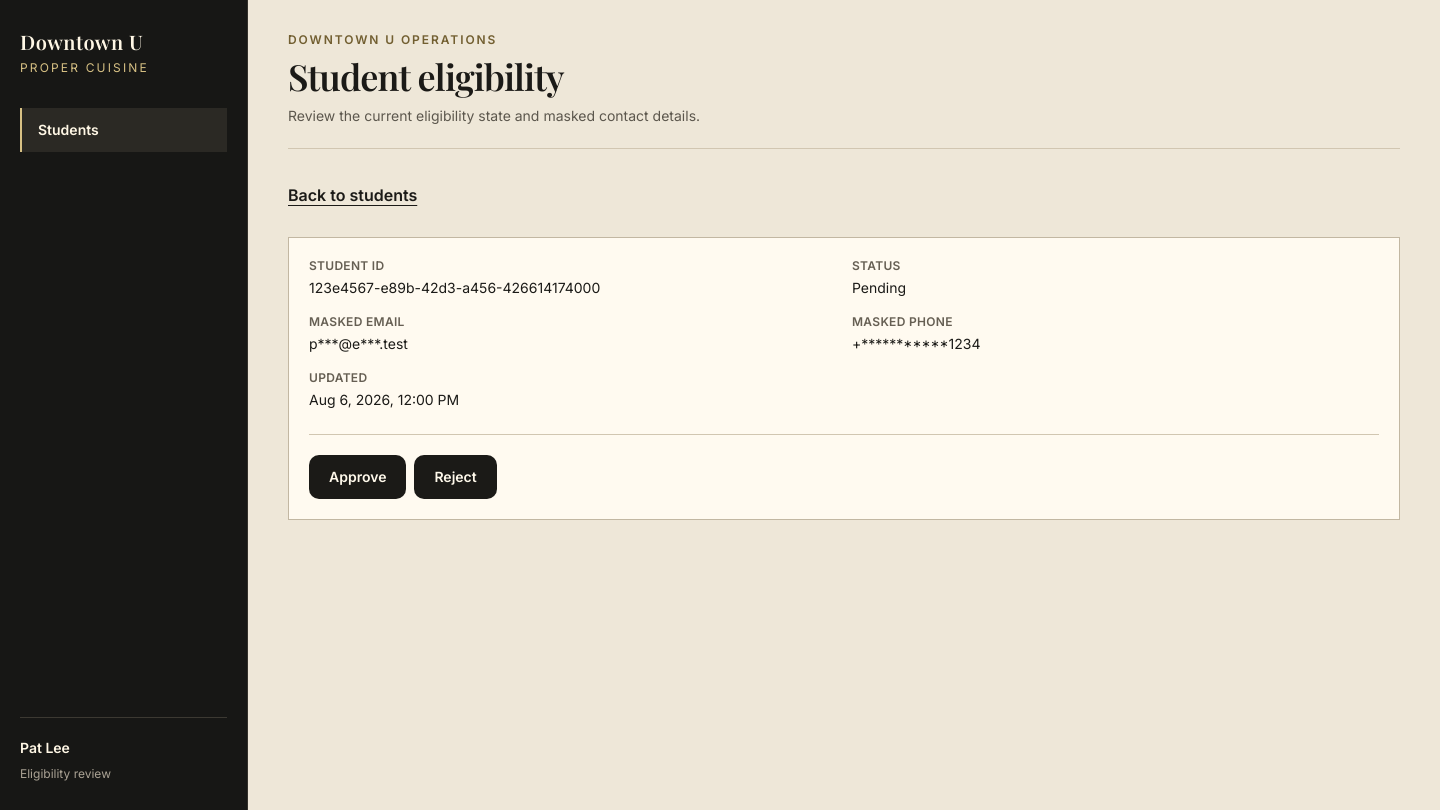
Test: eligibility mutation wizard › reauthenticates after Review, hides secrets, refetches exact state, and requires reconfirmation when it changed
This screenshot has width=1440, height=810.
Click the button "Approve" at (358, 477), box [309, 455, 406, 499]
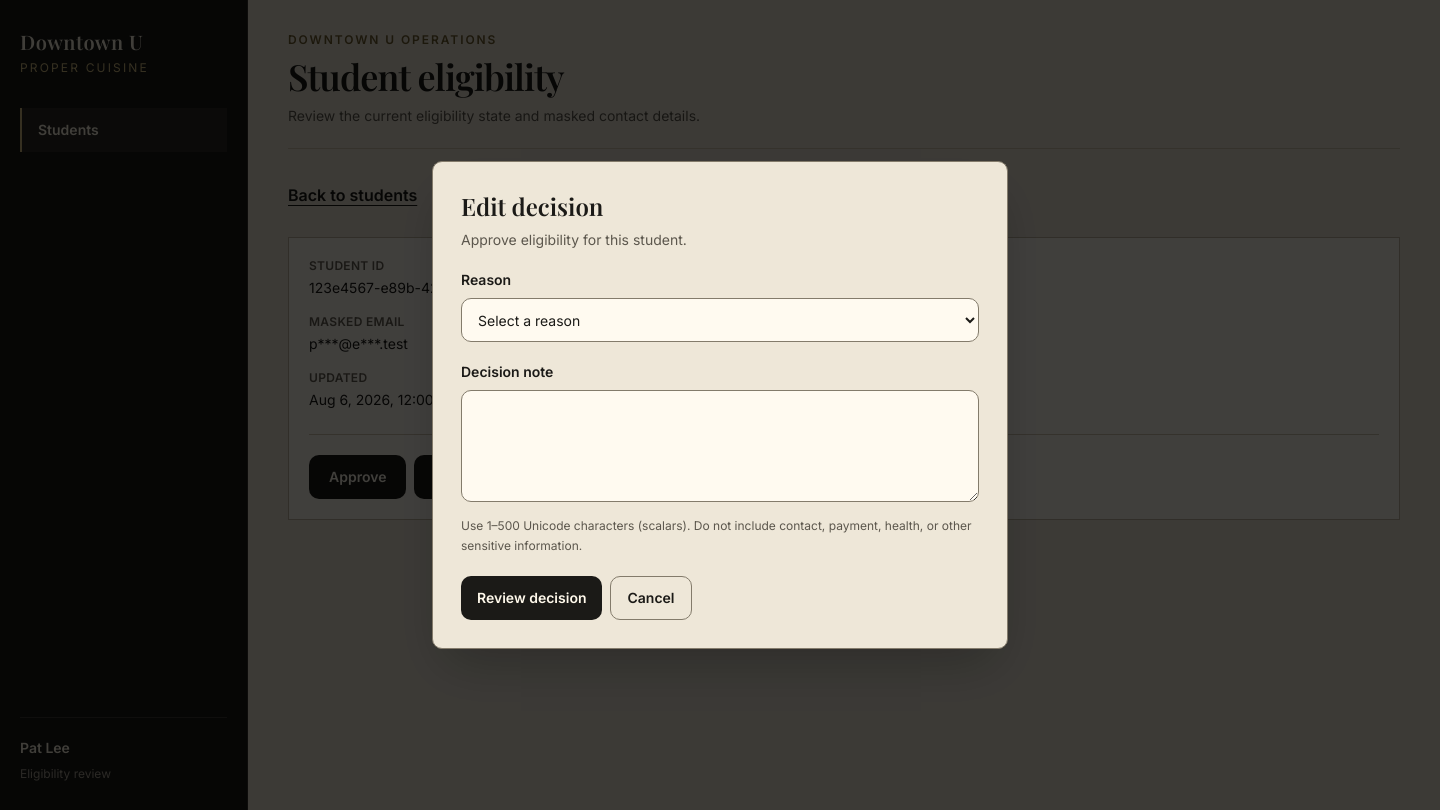
Select "Documentation verified" in the dropdown labelled "Reason" at (720, 320), box [461, 298, 979, 342]
Type "Documents verified" into the text box labelled "Decision note" at (720, 446), box [461, 390, 979, 502]
Click the button "Review decision" at (532, 598), box [461, 576, 602, 620]
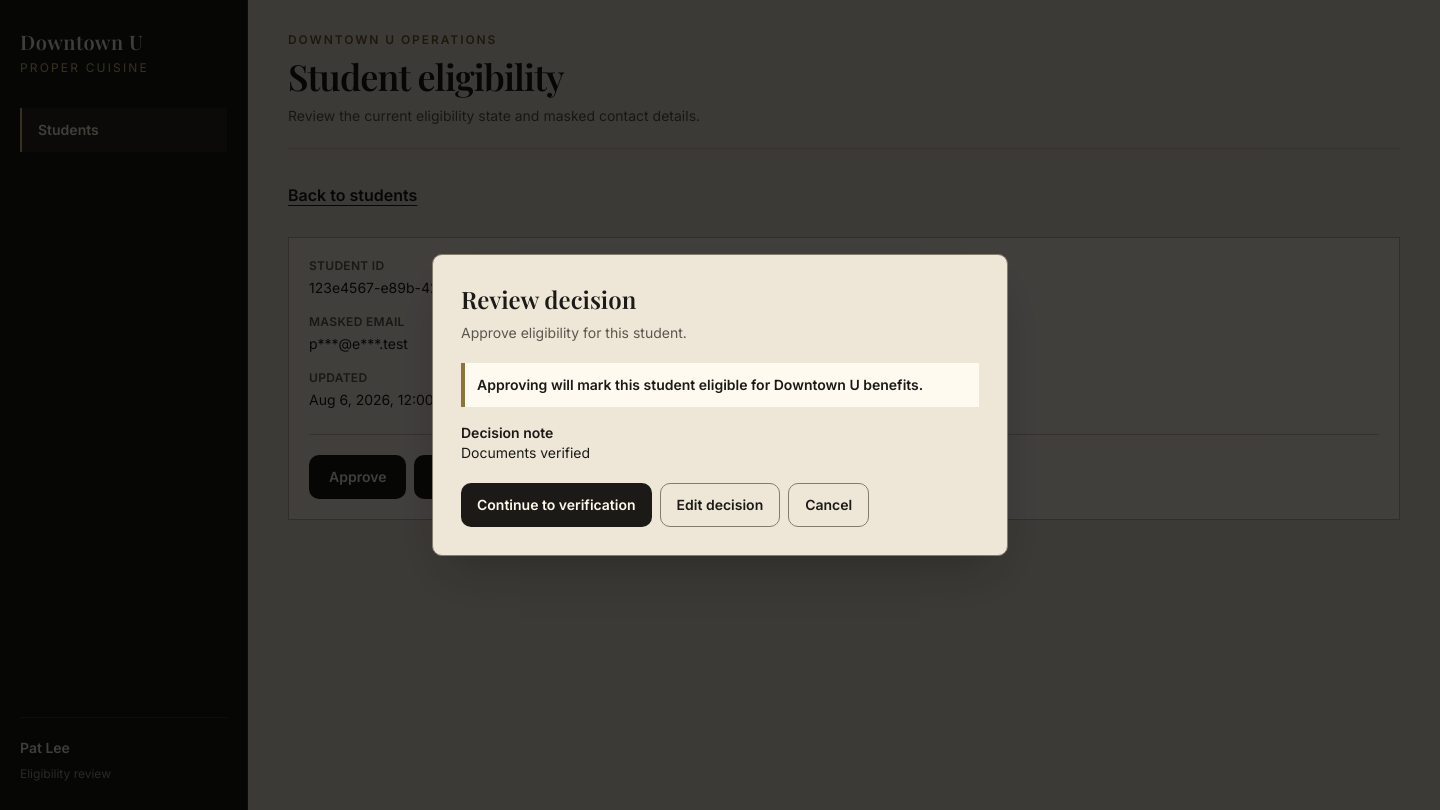
Now the text "Approving will mark this student eligible for Downtown U benefits." is shown, box [461, 363, 979, 407]
Click the button "Continue to verification" at (556, 505), box [461, 483, 652, 527]
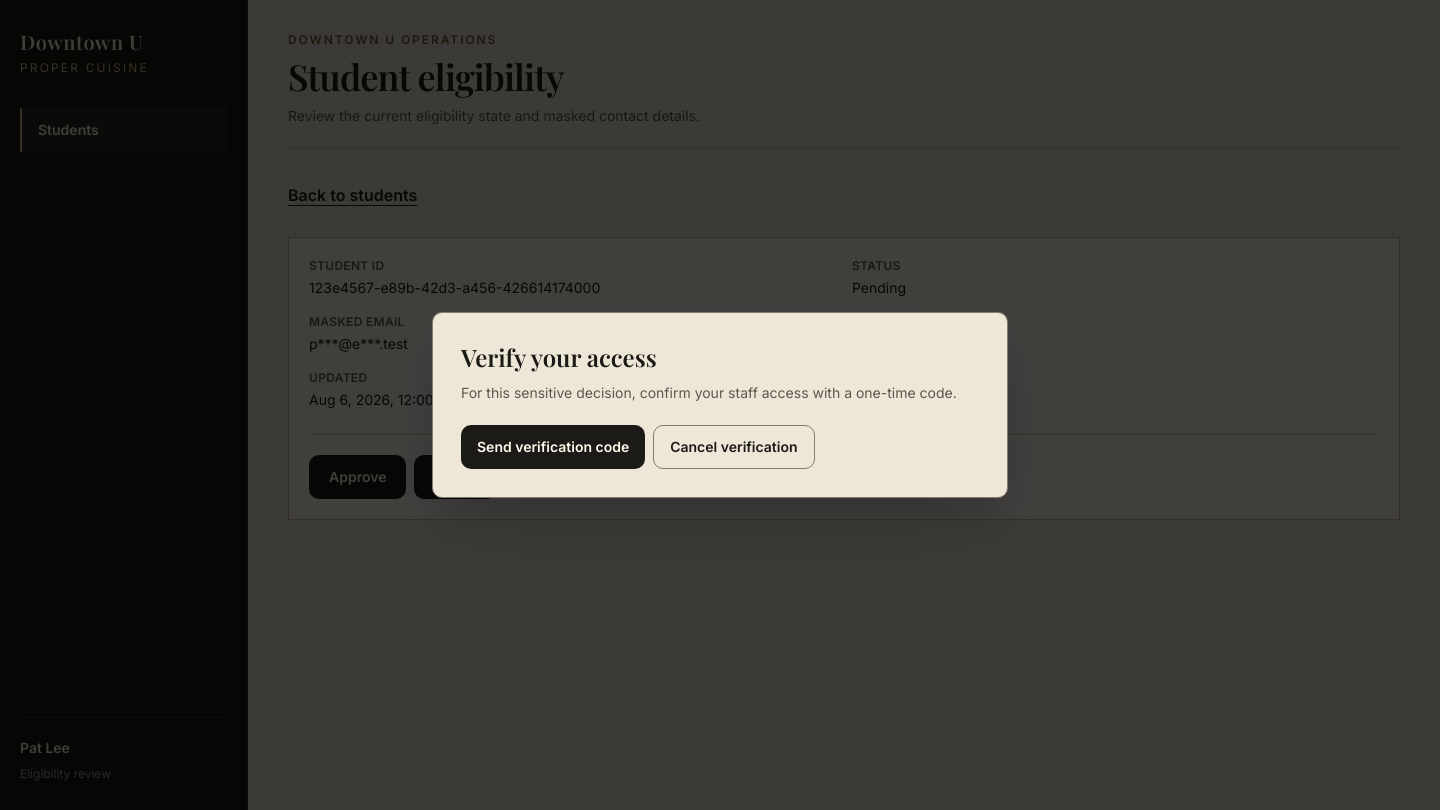
Click the button "Send verification code" at (553, 447), box [461, 425, 645, 469]
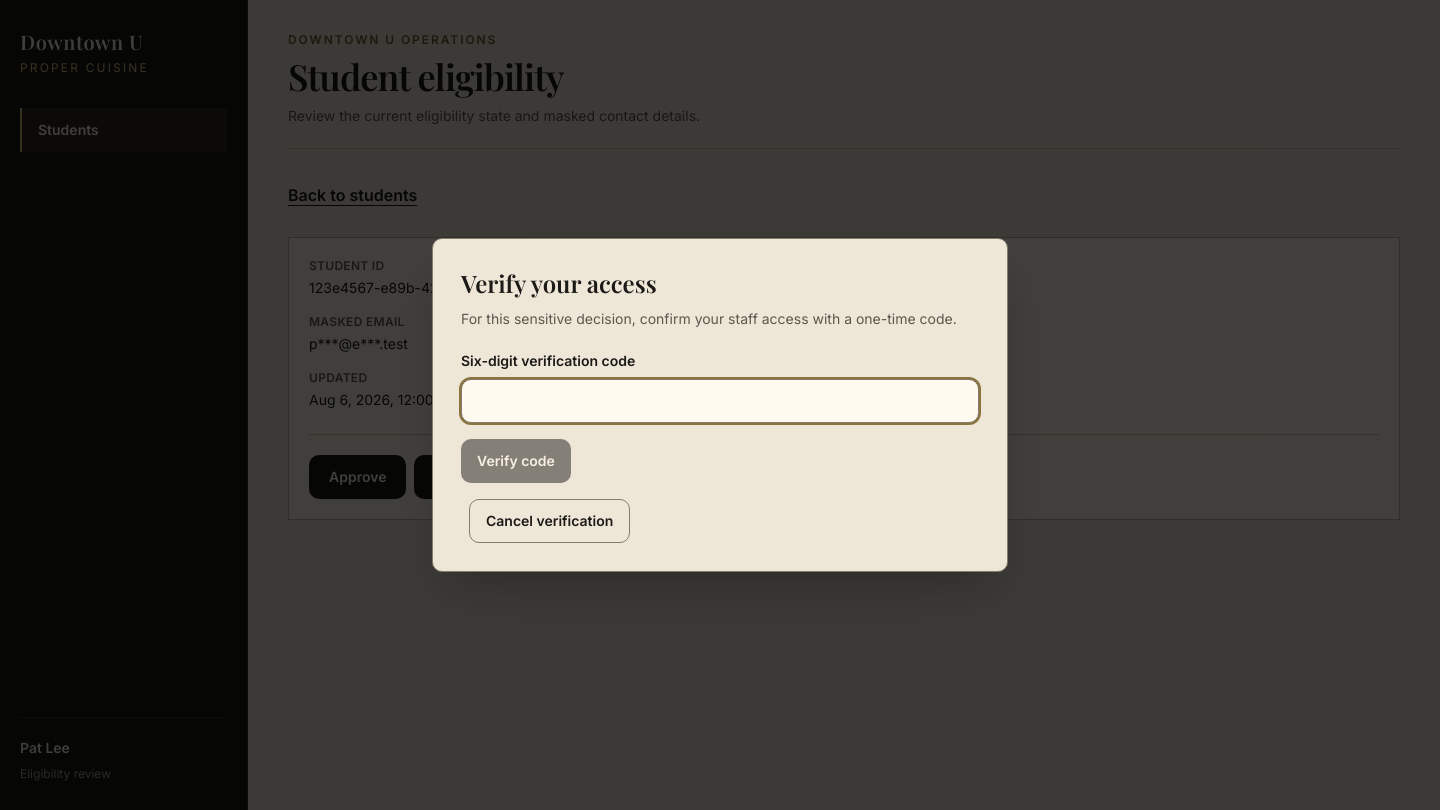
Type "012345" into the field labelled "Six-digit verification code" at (720, 401), box [461, 379, 979, 423]
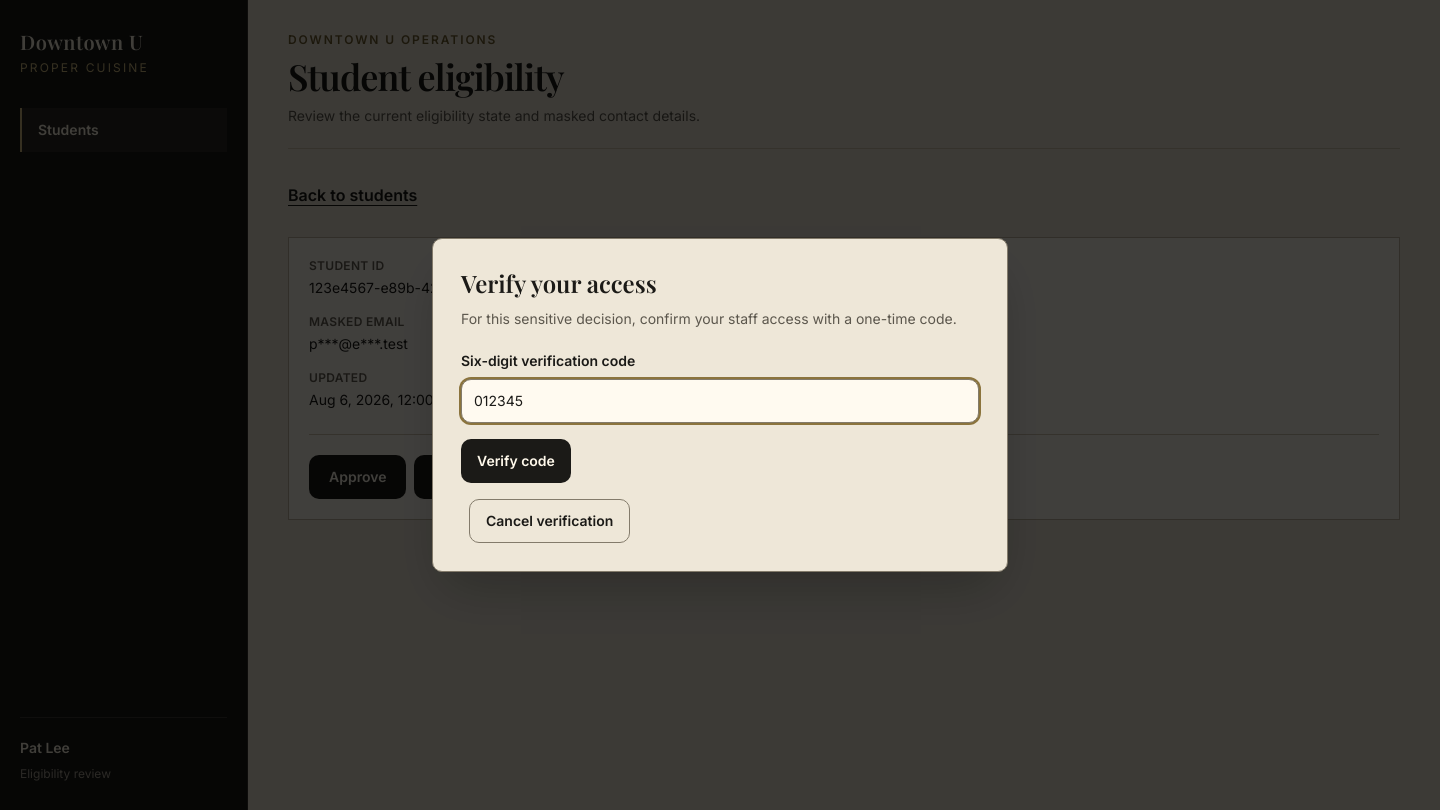
Click the button "Verify code" at (516, 461), box [461, 439, 571, 483]
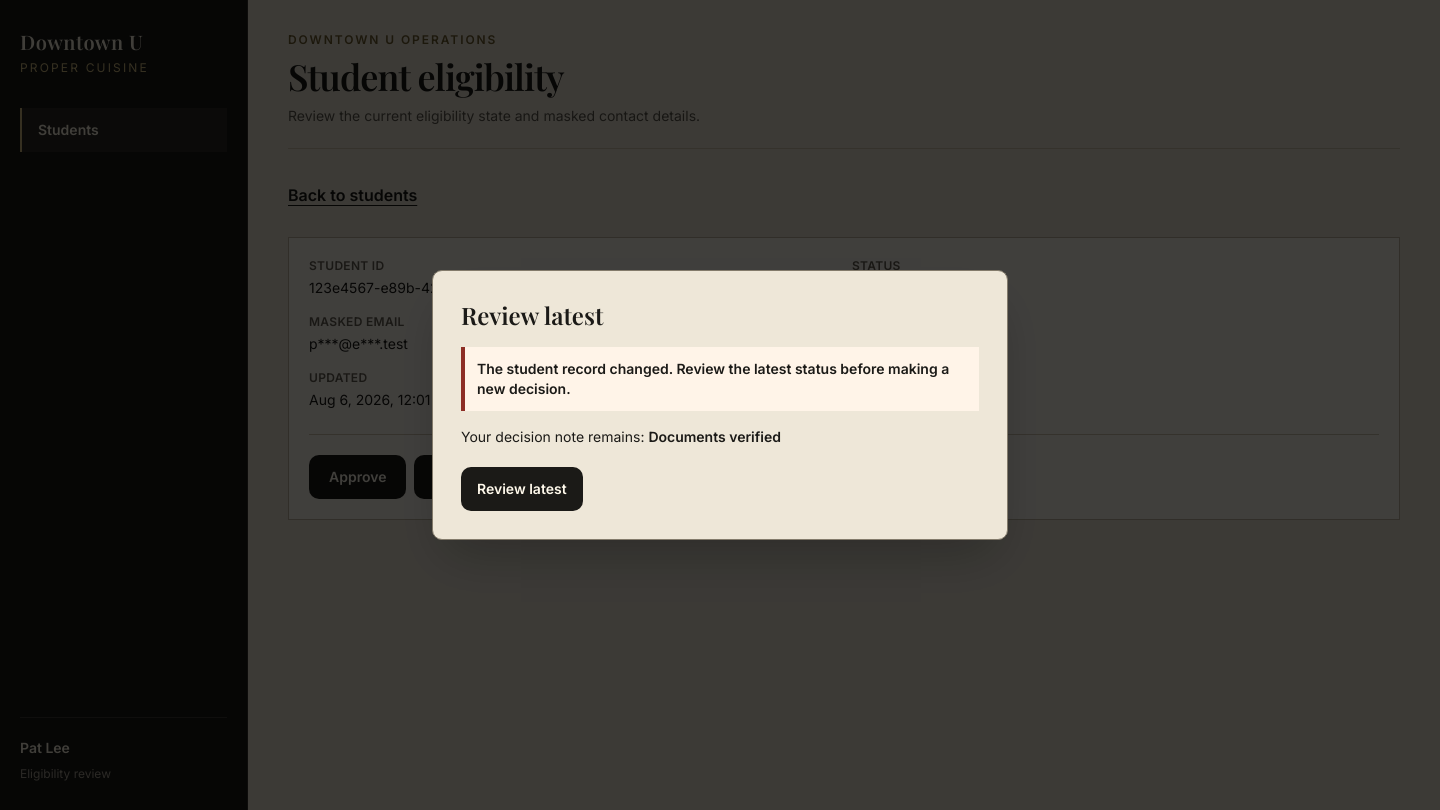
Now the message shows "student record changed", box [477, 360, 949, 397]
Now the button "Review latest" is shown, box [461, 467, 583, 511]
